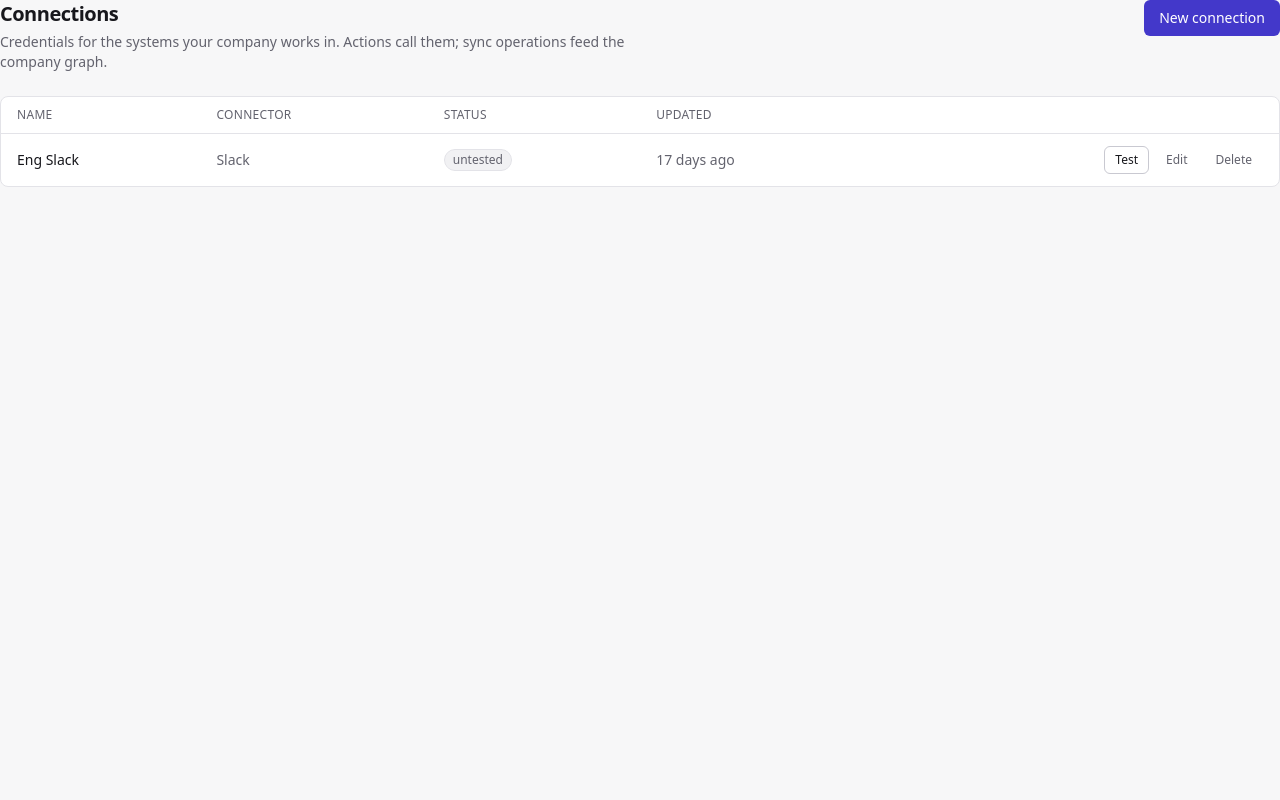
Test case: ConnectionsPage › surfaces the conflict when deleting a connection that is in use
What coordinates should you click on to do the following:
click the button with aria-label "Delete Eng Slack"
I would click on:
 (1234, 160)
Its box is [1204,146,1263,174].
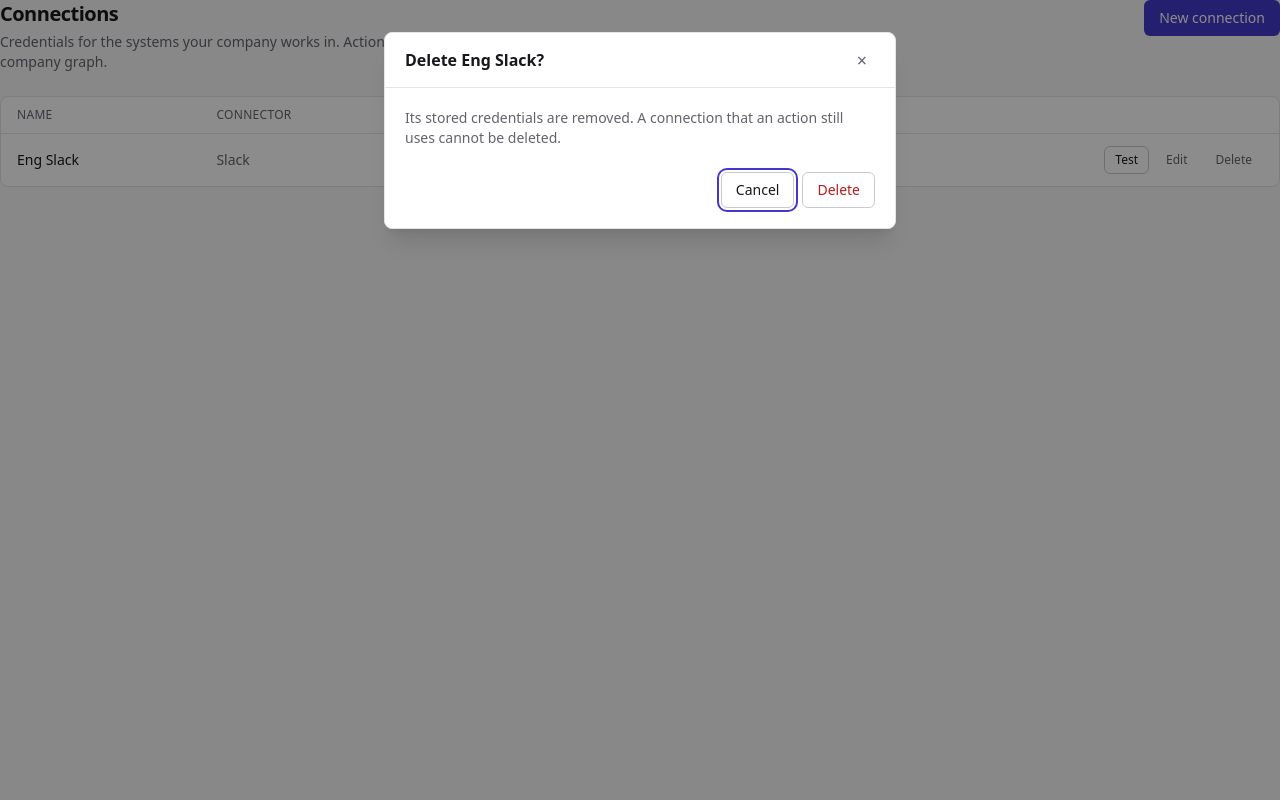
What coordinates should you click on to do the following:
click the button "Delete"
I would click on:
 (839, 190)
Its box is [802,172,875,208].
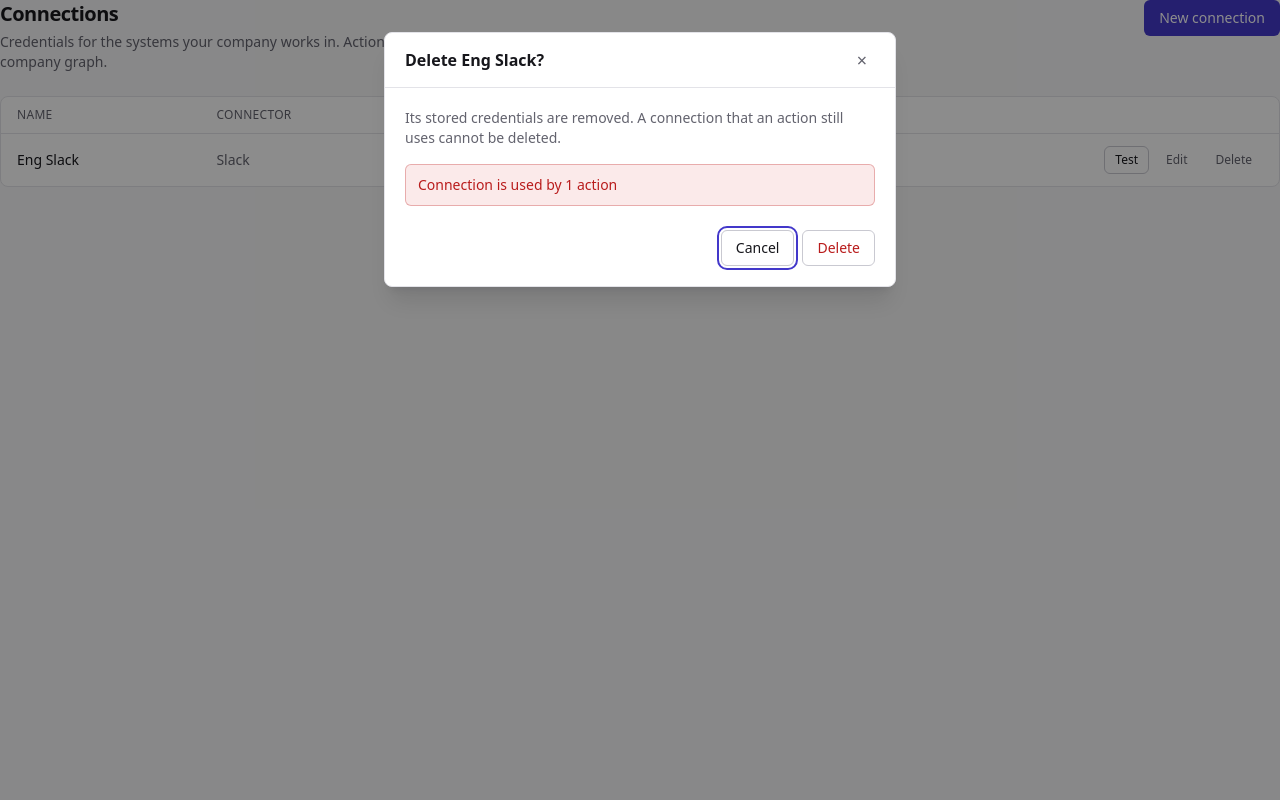
Expected: the message reads "Connection is used by 1 action", [418,175,617,194]
